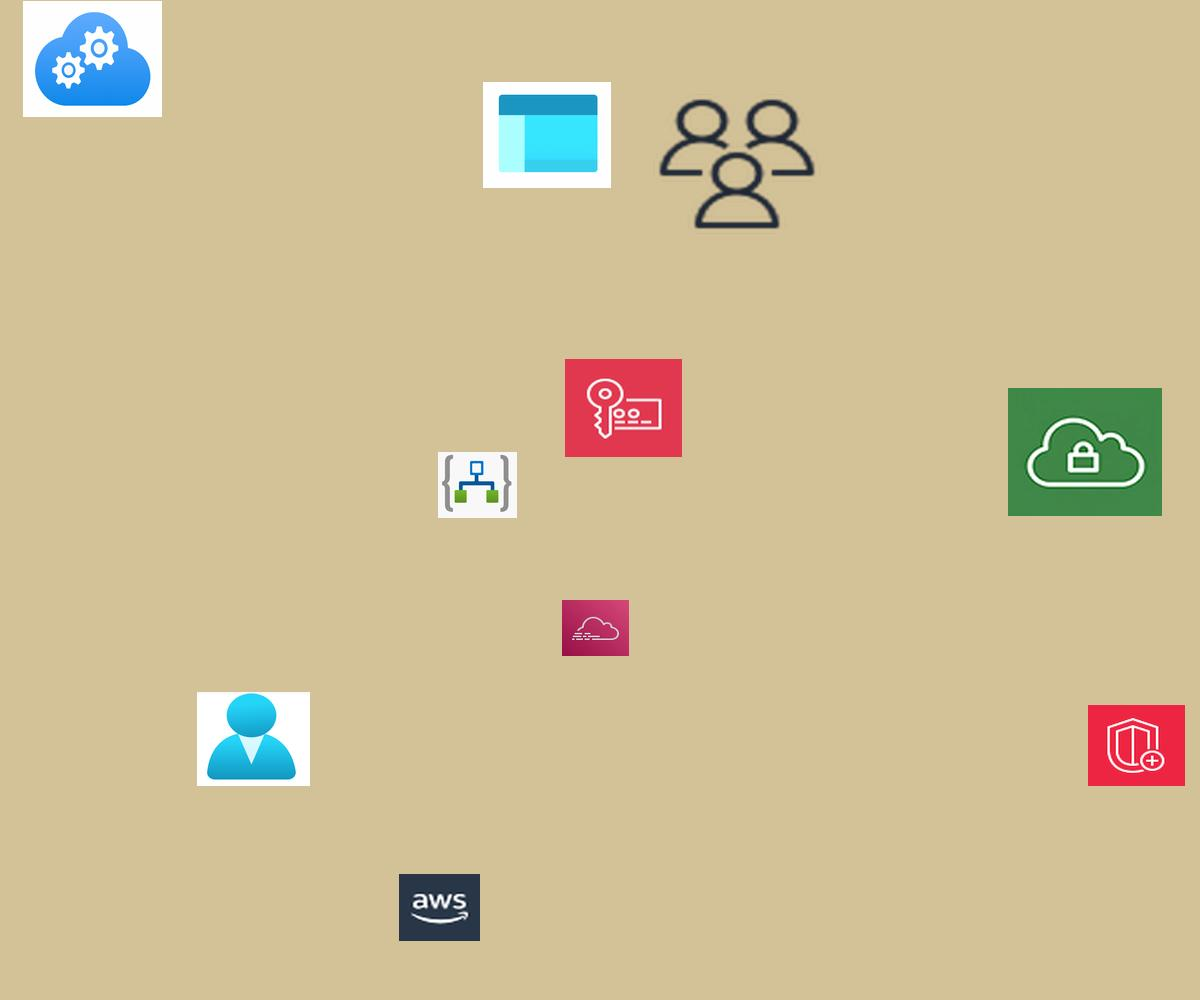AWS-Cloud-logo: (399, 874, 480, 941)
AWS-CloudTrail: (562, 600, 629, 656)
AWS-Key-Management-Service: (565, 359, 682, 457)
AWS-Private_vpc: (1008, 388, 1162, 516)
AWS-Res_Users: (653, 94, 821, 234)
AWS-Shield: (1088, 705, 1185, 786)
Azure_cloud_services: (23, 1, 162, 117)
Azure_integration-204-Logic-Apps: (438, 452, 517, 518)
Azure_management-portal: (483, 82, 611, 188)
Azure_users: (197, 692, 310, 786)
